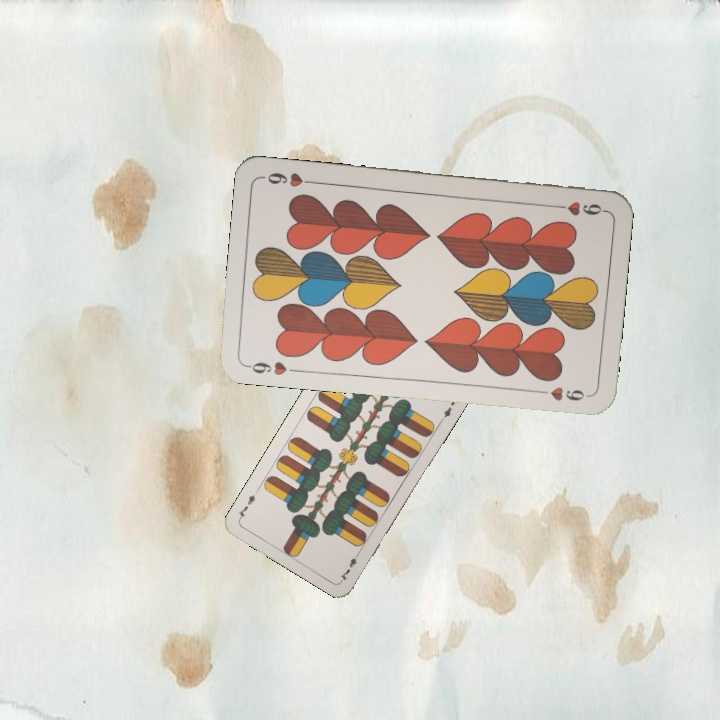E7: (335, 547, 363, 583)
H9: (548, 198, 607, 219), (242, 357, 301, 378)
